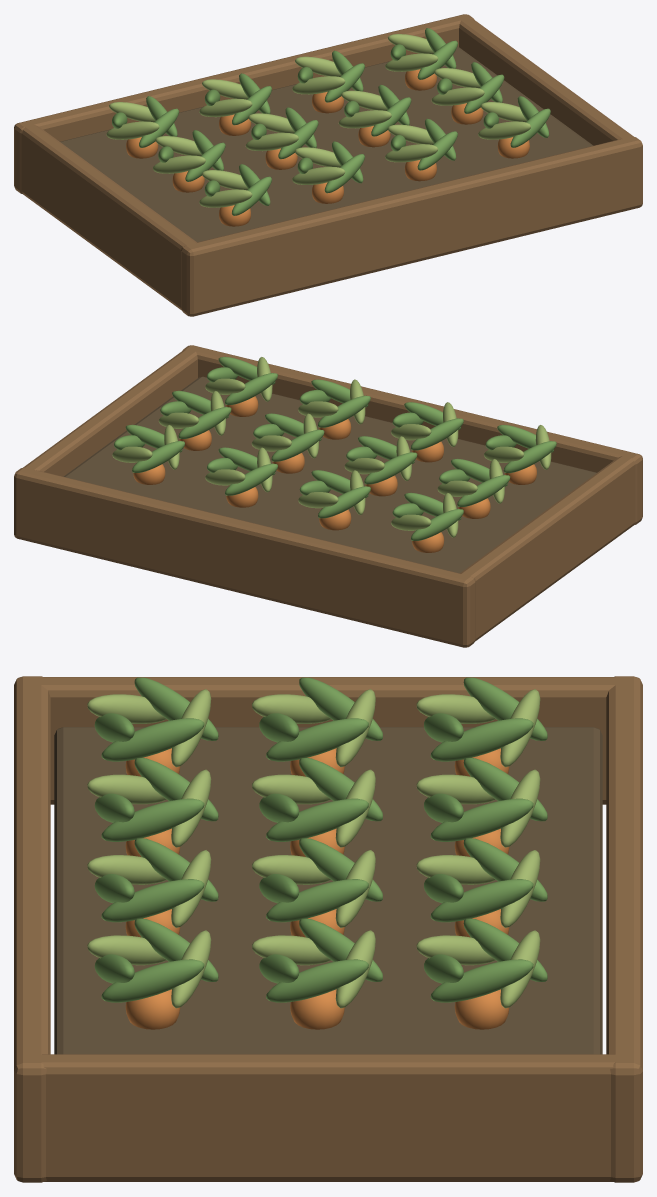
File: vegetable_bed.glb
3 views of the same model, one above another, from view 1: azimuth 30°, elevation 25°; view 2: azimuth 150°, elevation 25°; view 3: azimuth 270°, elevation 25° (orthographic). The views are drawn at different scales.
Visible parts, largest first — view 1: BedEnd, RaisedSoil, BedSide, BedEnd.001, BedSide.001, GardenLeaf.053, GardenLeaf.008, GardenLeaf.033, GardenLeaf.043, GardenLeaf.013, GardenLeaf.003, GardenLeaf.048 (+41 smaller); view 2: BedEnd.001, RaisedSoil, BedSide, BedEnd, BedSide.001, GardenLeaf.027, GardenLeaf.032, GardenLeaf.017, GardenLeaf.022, GardenLeaf.007, GardenLeaf.037, GardenLeaf.042 (+34 smaller); view 3: RaisedSoil, BedSide.001, BedEnd, BedEnd.001, BedSide, GardenLeaf.050, GardenLeaf.035, GardenLeaf.045, GardenLeaf.055, GardenLeaf.005, GardenLeaf.015, GardenLeaf.010 (+56 smaller).
Boxes of the visible parts, left/top/right/bottom form: BedEnd: left=181, top=136, right=642, bottom=316; RaisedSoil: left=60, top=46, right=593, bottom=242; BedSide: left=21, top=121, right=199, bottom=310; BedEnd.001: left=14, top=14, right=474, bottom=193; BedSide.001: left=457, top=15, right=633, bottom=145; GardenLeaf.053: left=431, top=87, right=484, bottom=105; GardenLeaf.008: left=153, top=155, right=205, bottom=173; GardenLeaf.033: left=385, top=144, right=437, bottom=162; GardenLeaf.043: left=292, top=76, right=345, bottom=94; GardenLeaf.013: left=106, top=121, right=159, bottom=139; GardenLeaf.003: left=199, top=189, right=252, bottom=207; GardenLeaf.048: left=478, top=121, right=530, bottom=139; BedEnd.001: left=14, top=467, right=475, bottom=647; RaisedSoil: left=63, top=376, right=596, bottom=573; BedSide: left=457, top=452, right=635, bottom=641; BedEnd: left=182, top=345, right=642, bottom=524; BedSide.001: left=23, top=346, right=199, bottom=476; GardenLeaf.027: left=318, top=486, right=370, bottom=518; GardenLeaf.032: left=318, top=395, right=370, bottom=427; GardenLeaf.017: left=410, top=418, right=463, bottom=450; GardenLeaf.022: left=364, top=452, right=417, bottom=484; GardenLeaf.007: left=457, top=475, right=510, bottom=506; GardenLeaf.037: left=271, top=429, right=324, bottom=461; GardenLeaf.042: left=225, top=463, right=277, bottom=495; RaisedSoil: left=54, top=727, right=602, bottom=1054; BedSide.001: left=26, top=1054, right=630, bottom=1181; BedEnd: left=14, top=676, right=50, bottom=1182; BedEnd.001: left=606, top=676, right=642, bottom=1182; BedSide: left=27, top=677, right=630, bottom=804; GardenLeaf.050: left=266, top=959, right=368, bottom=1002; GardenLeaf.035: left=266, top=879, right=368, bottom=922; GardenLeaf.045: left=101, top=959, right=204, bottom=1002; GardenLeaf.055: left=430, top=959, right=533, bottom=1002; GardenLeaf.005: left=266, top=718, right=368, bottom=761; GardenLeaf.015: left=101, top=798, right=204, bottom=841; GardenLeaf.010: left=430, top=718, right=533, bottom=761.
Bounding box in the file's own units: 2.55 × 0.4933 × 1.72.
